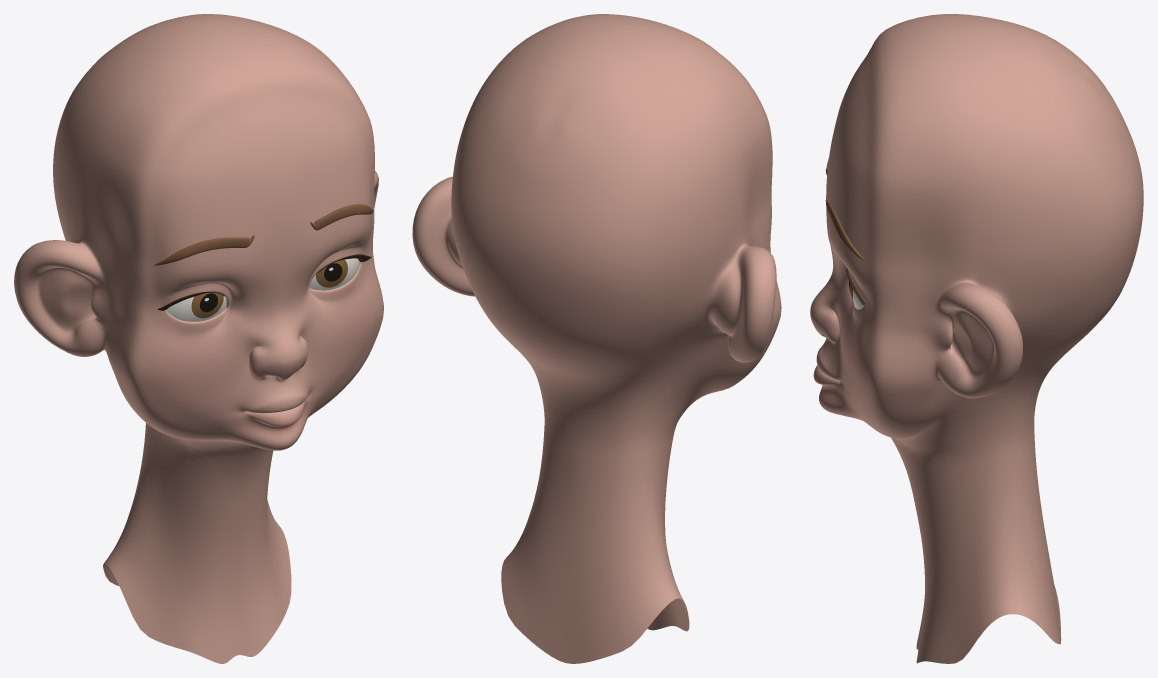
File: lingya-face.gltf
3 renders of one model, left to right at view 1: azimuth 30°, elevation 25°; view 2: azimuth 150°, elevation 25°; view 3: azimuth 270°, elevation 25°, orthographic. The views are drawn at different scales.
Visible parts, largest first — view 1: Lingya-head, Lingya-eyes_viewport, Lingya-eyebrows; view 2: Lingya-head; view 3: Lingya-head, Lingya-eyebrows.
Part boxes in pixels (box(x1,y1,x2,y2)): Lingya-head: box(14, 14, 383, 663); Lingya-eyes_viewport: box(166, 258, 359, 321); Lingya-eyebrows: box(154, 204, 373, 265); Lingya-head: box(412, 14, 781, 663); Lingya-head: box(810, 14, 1143, 663); Lingya-eyebrows: box(825, 158, 865, 261).
Bounding box in the file's own units: 0.1909 × 0.3114 × 0.151.
